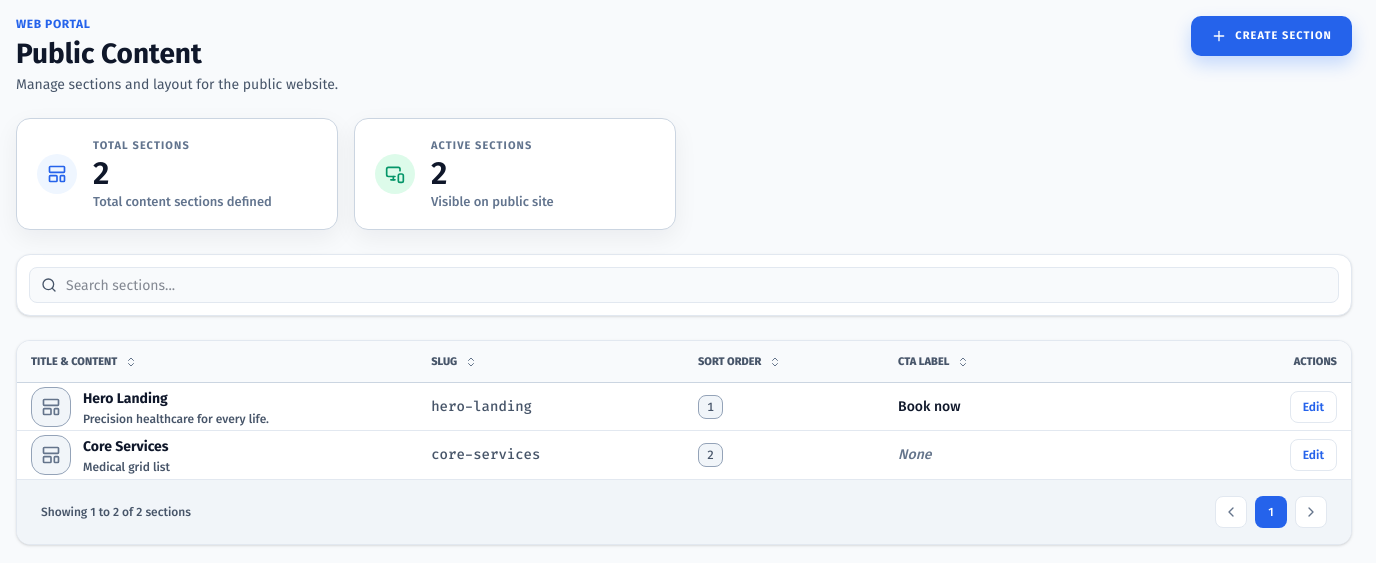
AdminPublicContentPage › filters content sections by search text
Type "core" into the search field named "search public content sections" at (684, 285), box [29,267,1339,303]
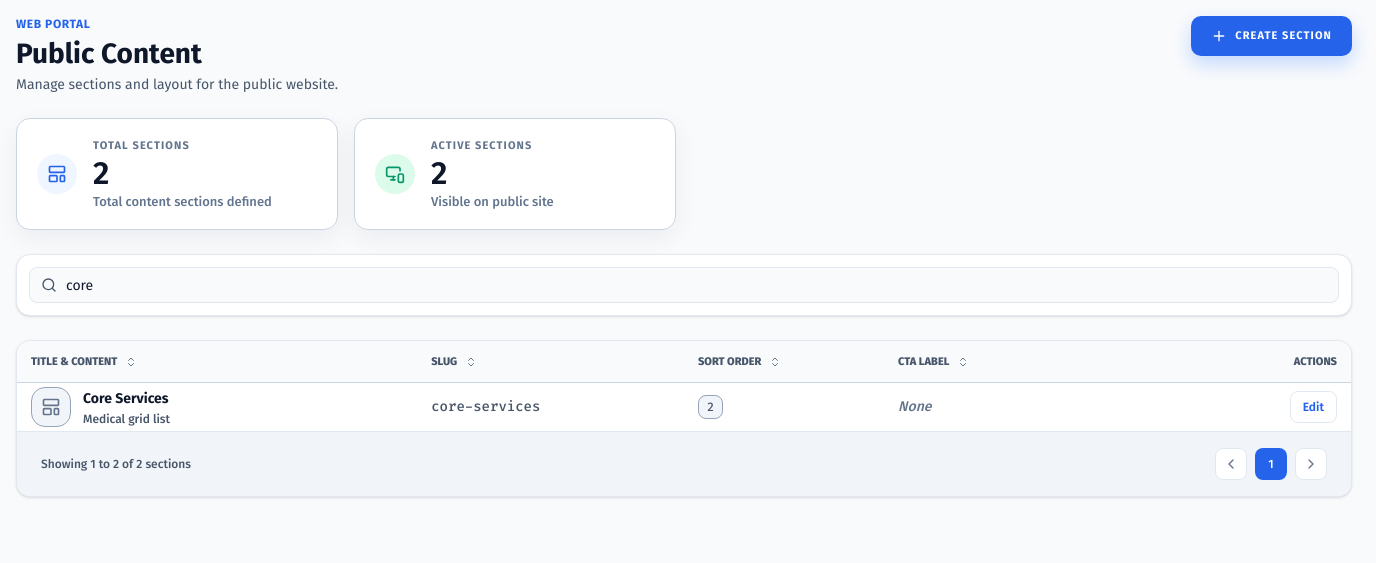
Expected: the text "Core Services" is shown, [83,390,169,407]
Expected: the text "Hero Landing" is gone
